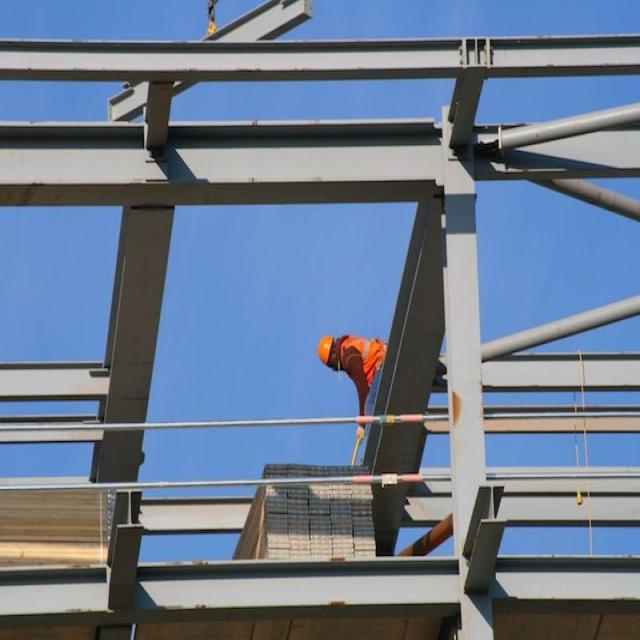steel beam: (0, 557, 639, 624), (0, 120, 443, 207), (0, 31, 639, 79), (108, 0, 312, 128), (139, 485, 640, 530), (474, 112, 640, 178), (430, 355, 639, 391), (0, 359, 112, 399)
